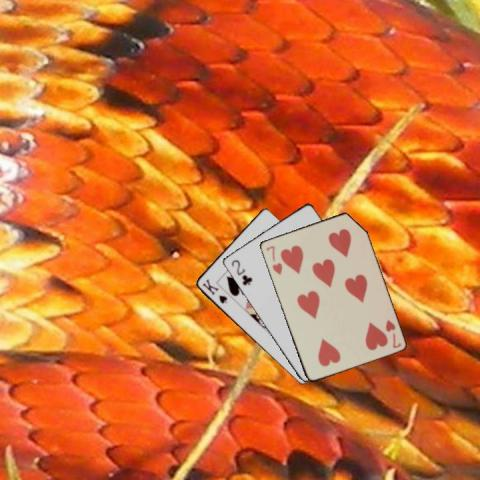2c: (228, 256, 253, 286)
7h: (263, 243, 283, 276), (383, 317, 402, 349)
Ks: (199, 276, 229, 305)
